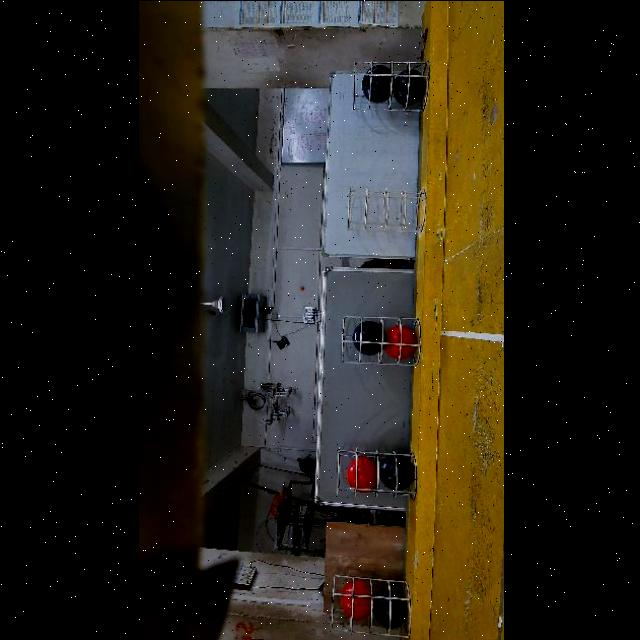P: (371, 586, 406, 628), (392, 66, 426, 105), (379, 456, 415, 490), (362, 65, 393, 104), (352, 320, 384, 354)
R: (340, 581, 372, 615), (384, 325, 416, 358), (346, 456, 380, 487)
S: (328, 570, 418, 632), (336, 314, 426, 372), (332, 443, 418, 503), (349, 54, 428, 108), (347, 180, 425, 230)
